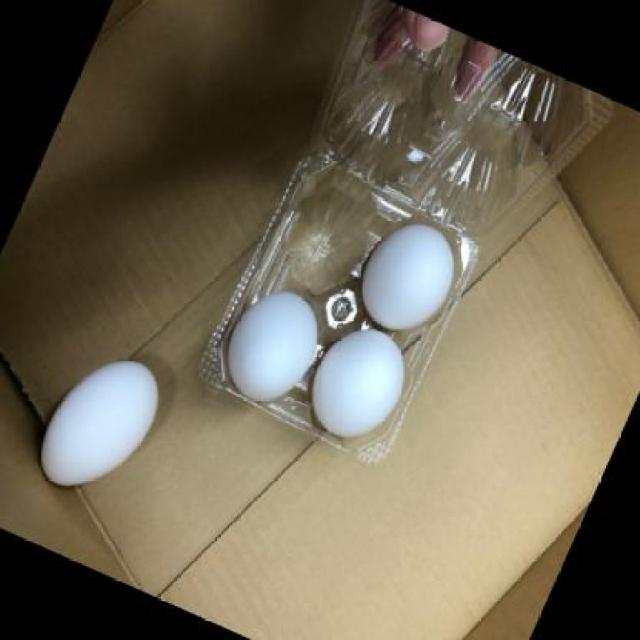egg: (40, 353, 164, 491), (358, 218, 461, 327), (313, 328, 410, 439), (229, 288, 322, 401)
